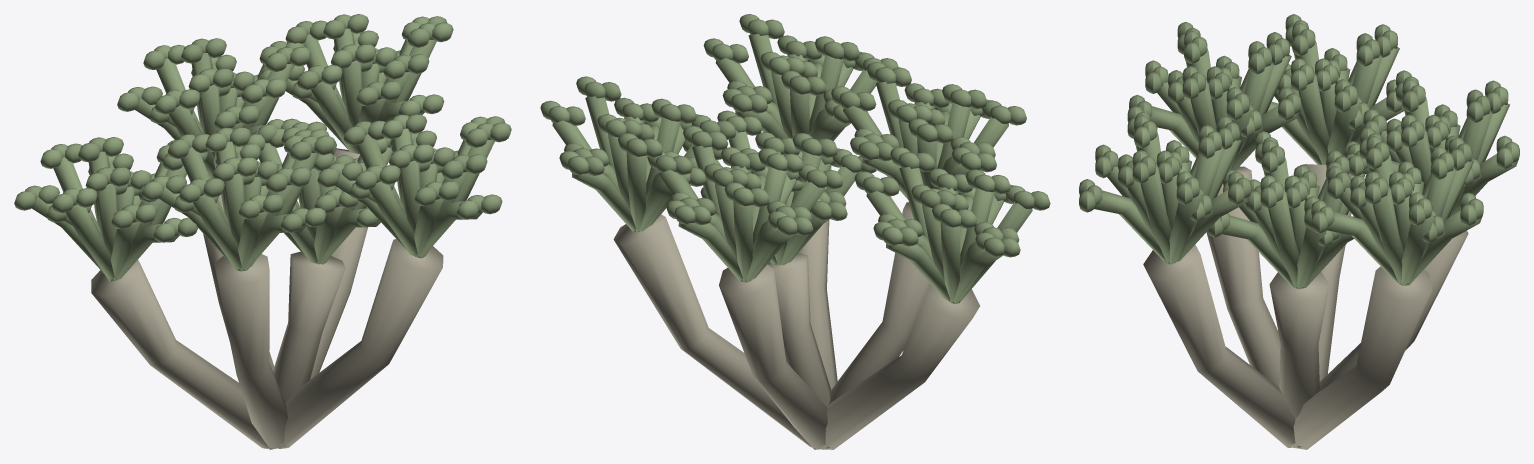
Rendered from frogspawn-mobile.glb.
3 views of the same model, side by side, from view 1: azimuth 30°, elevation 25°; view 2: azimuth 150°, elevation 25°; view 3: azimuth 270°, elevation 25° (orthographic). The views are drawn at different scales.
Parts seen in each view (by area): view 1: fleshy-tentacle, branching-corallum; view 2: fleshy-tentacle, branching-corallum; view 3: fleshy-tentacle, branching-corallum.
Part boxes in pixels (x1,y1,x2,y2): fleshy-tentacle: [14, 14, 511, 281]; branching-corallum: [91, 148, 443, 449]; fleshy-tentacle: [540, 14, 1050, 304]; branching-corallum: [613, 166, 979, 449]; fleshy-tentacle: [1079, 14, 1519, 289]; branching-corallum: [1143, 164, 1468, 449].
Size of the model in its own units: 0.6413 by 0.4668 by 0.5116.
